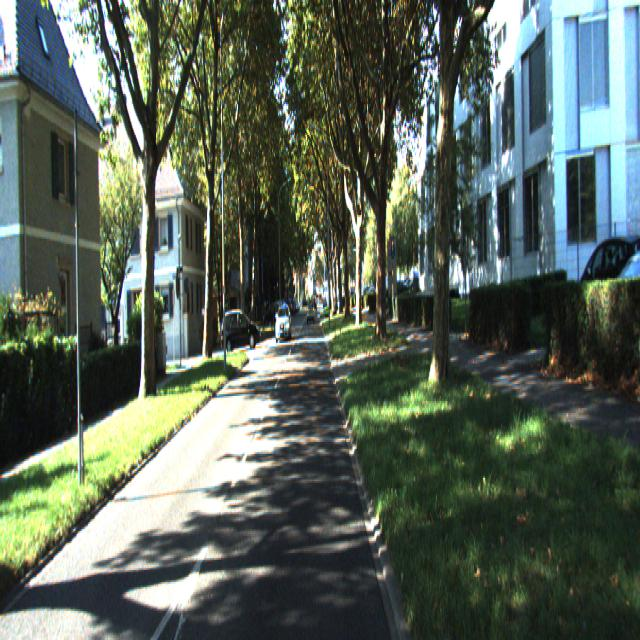Car: (221, 307, 261, 352), (274, 307, 292, 343)
